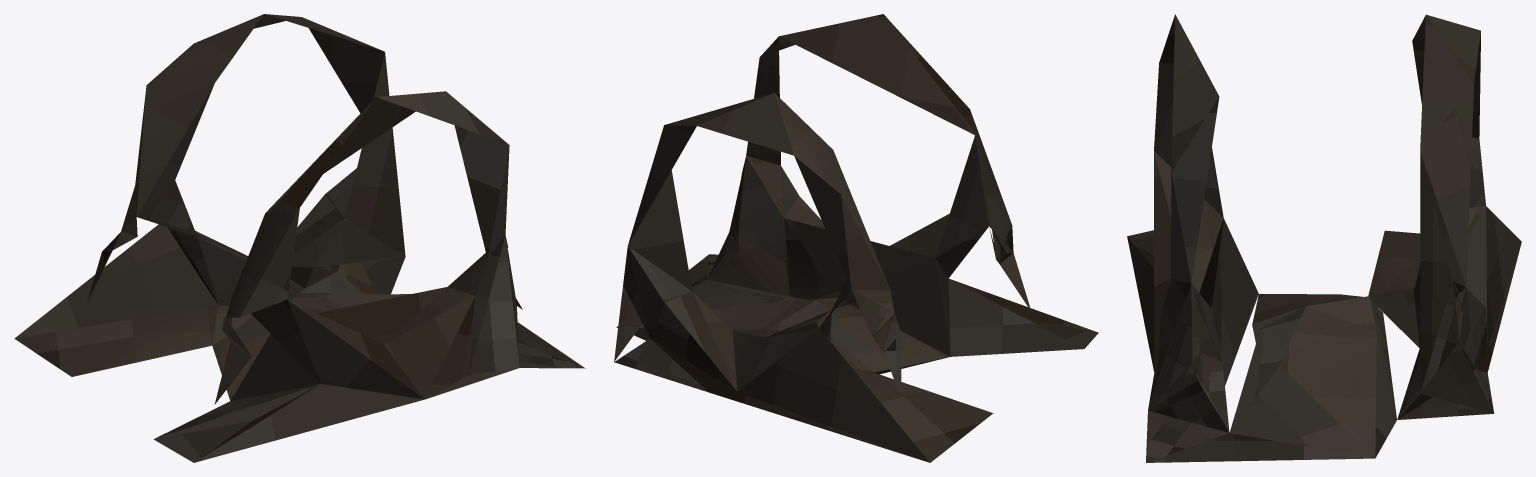
File: stunt-double-loop.collision.glb
The picture shows the model from 3 angles, left to right: view 1: azimuth 30°, elevation 25°; view 2: azimuth 150°, elevation 25°; view 3: azimuth 270°, elevation 25°; orthographic projection. The views are drawn at different scales.
Parts seen in each view (by area): view 1: output_unwrapped; view 2: output_unwrapped; view 3: output_unwrapped.
Boxes of the visible parts, box(x1,y1,x2,y2) form: output_unwrapped: box(14, 14, 585, 462); output_unwrapped: box(614, 14, 1098, 462); output_unwrapped: box(1127, 14, 1521, 462).
Size of the model in its own units: 1.48 by 1.08 by 1.11.
Materials: 1 (1 with a texture image).
